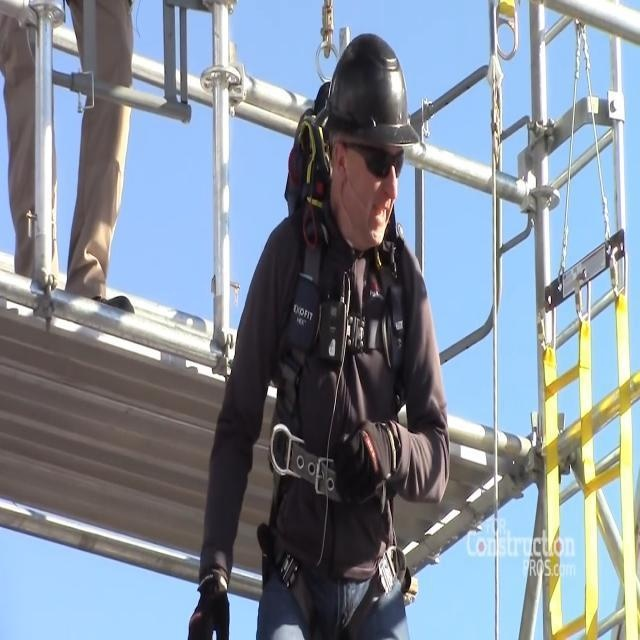Arnes_seguridad: (258, 73, 428, 640)
